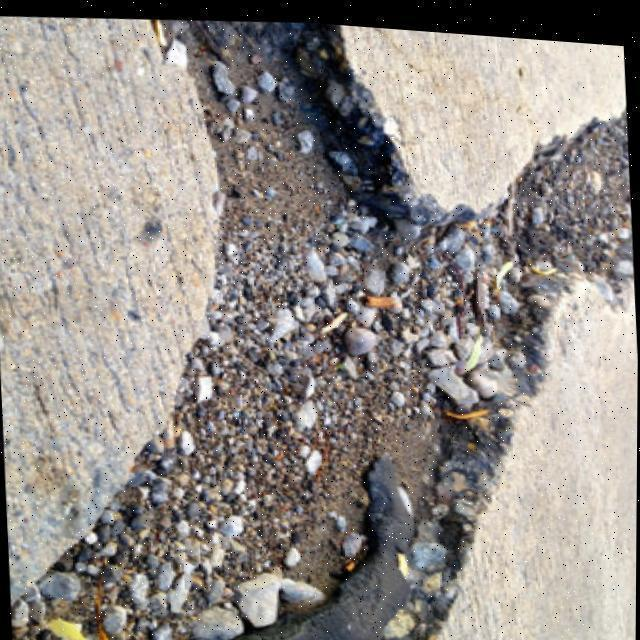Pothole: (0, 25, 640, 640)
